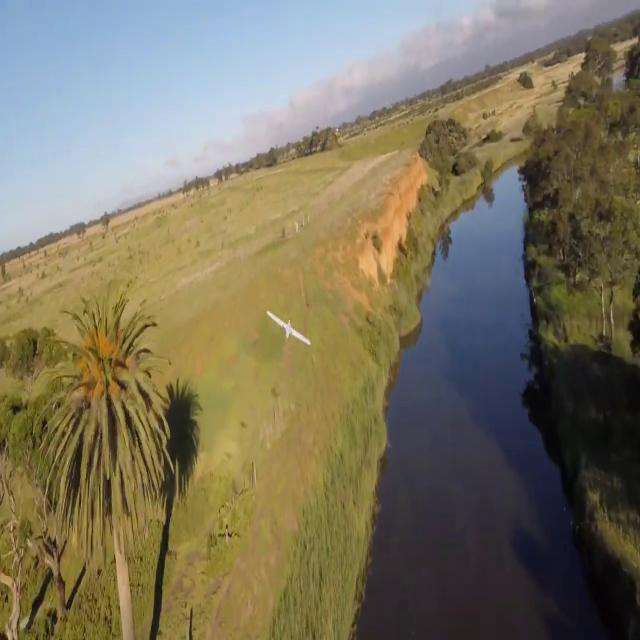iha: (267, 301, 313, 339)
